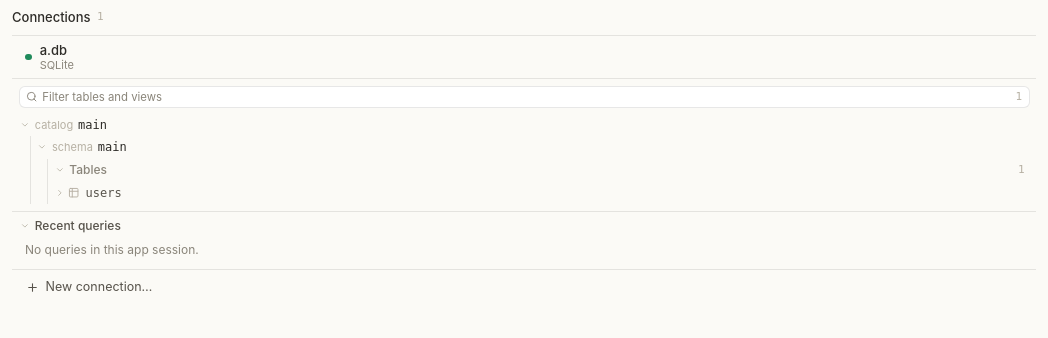
Scenario: DatabaseNavContent P3 metadata recovery › shows an inline retry when one object's column load fails
Click the button named "Expand columns for users": (60, 193) top-left (51, 181), bottom-right (68, 204)
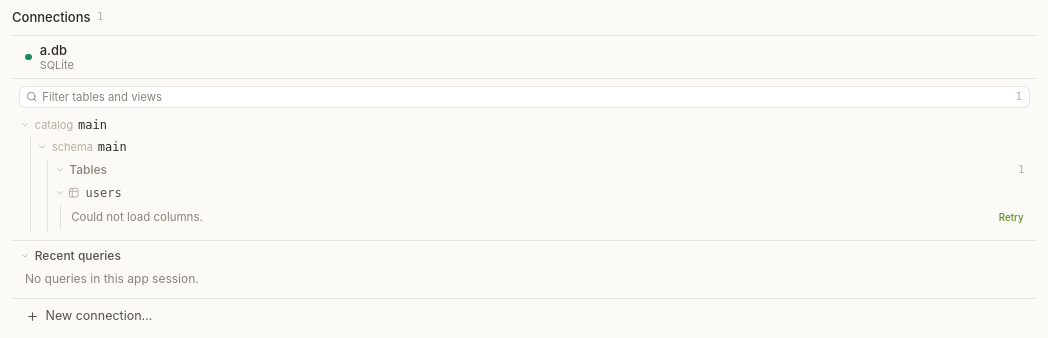
Expected: the text "Could not load columns." is shown, top-left (71, 210), bottom-right (203, 224)
Click the button with aria-label "Retry columns for users": (1011, 217) top-left (991, 207), bottom-right (1031, 227)
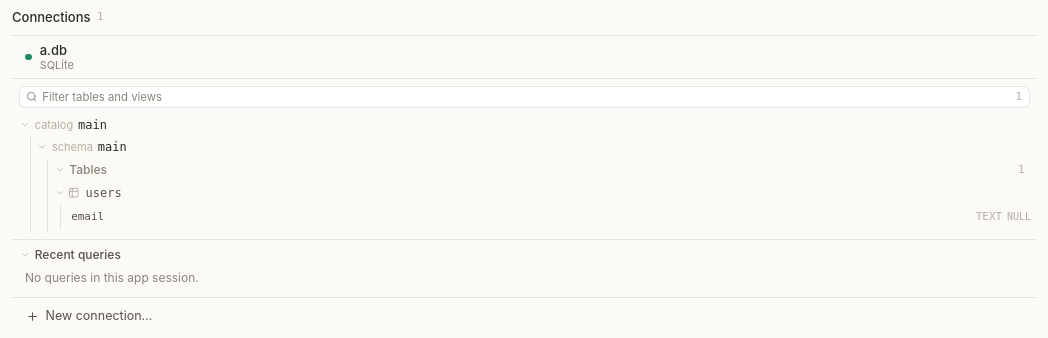
Expected: the text "email" is shown, top-left (71, 208), bottom-right (104, 225)
Expected: the text "NULL" is shown, top-left (1007, 209), bottom-right (1031, 224)
